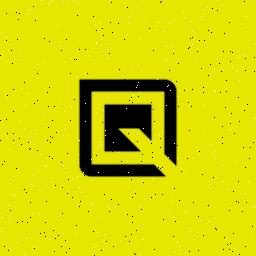q: (76, 74, 182, 178)
